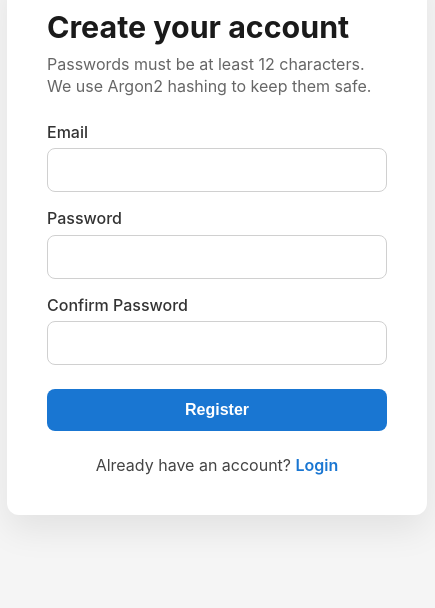
it: RegisterPage › displays errors from the server
In the field labelled "Email": (217, 170) [47, 148, 387, 192], type "user@example.com"
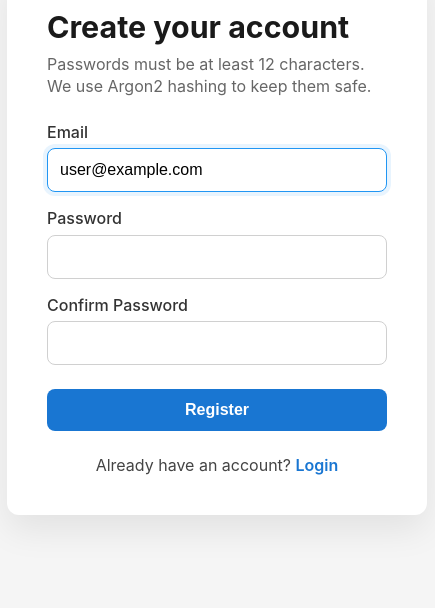
In the password field labelled "Password": (217, 257) [47, 235, 387, 279], type "Password123!"
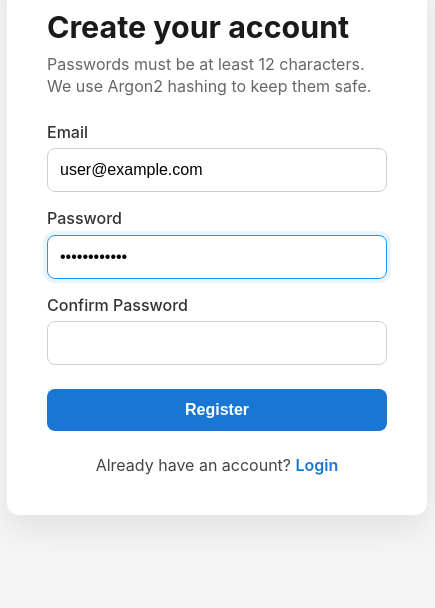
In the password field labelled "Confirm Password": (217, 343) [47, 321, 387, 365], type "Password123!"
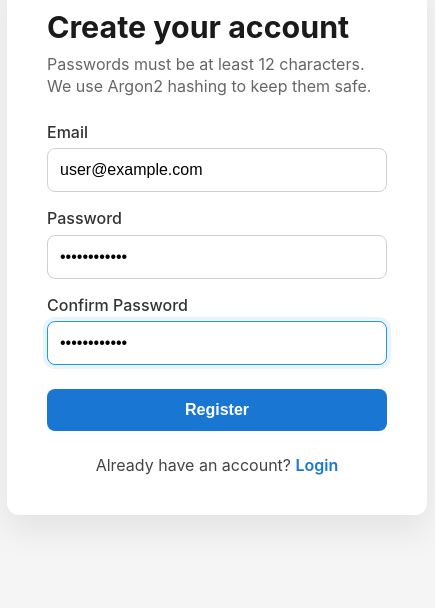
Click the button "Register": (217, 410) [47, 389, 387, 431]
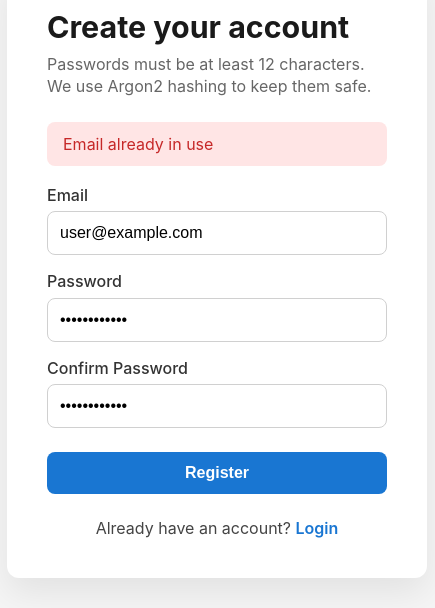
Now the text "Email already in use" is shown, box [47, 122, 387, 166]
